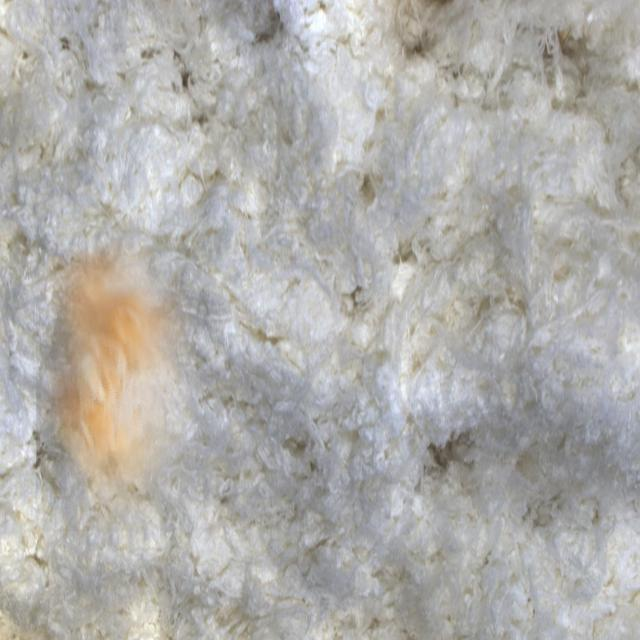dust: (36, 240, 195, 531)
